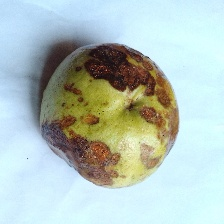guava: (34, 18, 176, 183)
